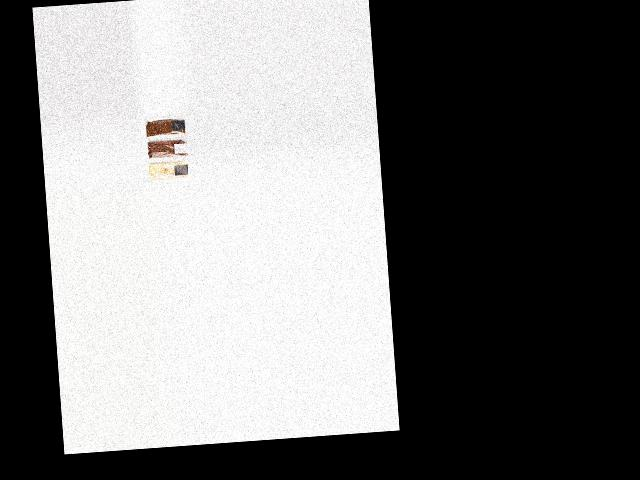chocolate: (141, 111, 185, 138)
